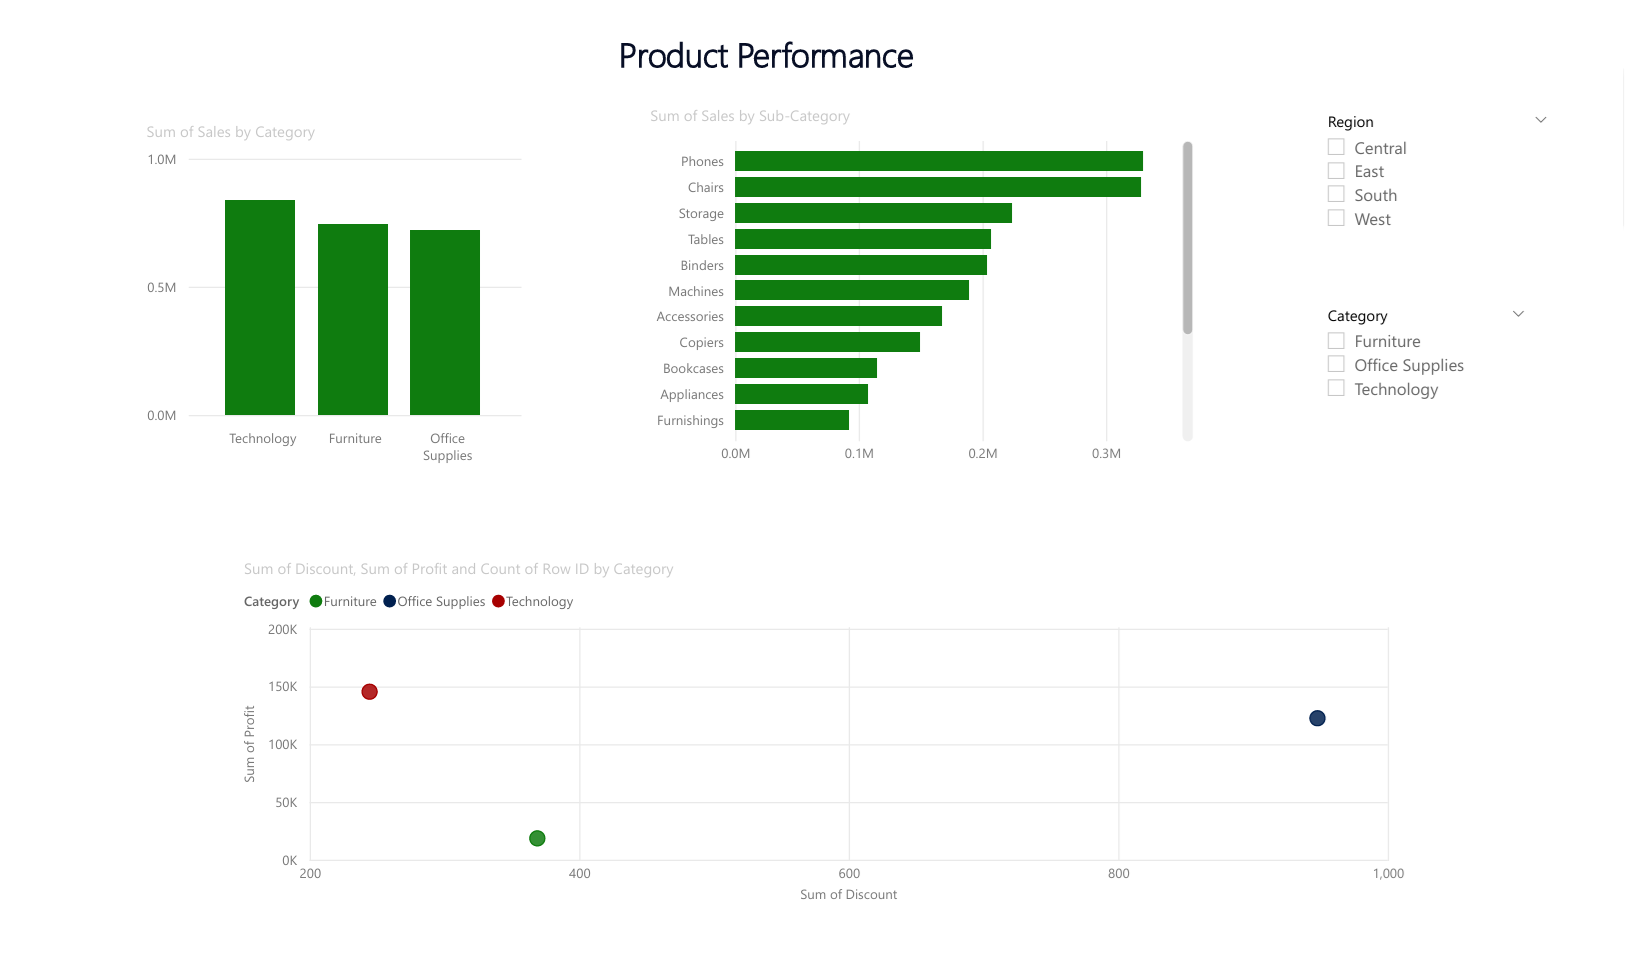

What the dashboard file says about the page in this screenshot:
{"tool":"powerbi","page":{"name":"Page 2","canvas":[1280,720],"ordinal":1},"visuals":[{"type":"clusteredColumnChart","fields":{"Category":["Superstore_clean.Category"],"Y":["Sum(Superstore_clean.Sales)"]},"box":[92.9,77.1,310,281.4],"z":0},{"type":"clusteredBarChart","fields":{"Category":["Superstore_clean.Sub-Category"],"Y":["Sum(Superstore_clean.Sales)"]},"box":[495.7,64.3,444.3,295.7],"z":1000},{"type":"scatterChart","fields":{"X":["Sum(Superstore_clean.Discount)"],"Y":["Sum(Superstore_clean.Profit)"],"Series":["Superstore_clean.Category"]},"box":[171.4,425.7,937.1,280],"z":2000},{"type":"textbox","box":[0,386,807,320],"z":3000},{"type":"textbox","box":[448.6,0,290,48.6],"z":4000},{"type":"slicer","fields":{"Values":["revenue_by_region.Region"]},"box":[1030,64.3,201.4,144.3],"z":5000},{"type":"slicer","fields":{"Values":["Superstore_clean.Category"]},"box":[1030,218.6,182.9,122.9],"z":6000}]}

Visuals, with their boxes in screenshot pixels (x1, y1, x2, y2), scaled from the page's 1280x720 canvas onto the 1652x957 screenshot:
clusteredColumnChart - Superstore_clean.Category x Sum(Superstore_clean.Sales): BBox(120, 102, 520, 477)
clusteredBarChart - Superstore_clean.Sub-Category x Sum(Superstore_clean.Sales): BBox(640, 85, 1213, 478)
scatterChart - Sum(Superstore_clean.Discount) x Sum(Superstore_clean.Profit): BBox(221, 566, 1431, 938)
textbox: BBox(0, 513, 1042, 938)
textbox: BBox(579, 0, 953, 65)
slicer - revenue_by_region.Region: BBox(1329, 85, 1589, 277)
slicer - Superstore_clean.Category: BBox(1329, 291, 1565, 454)
